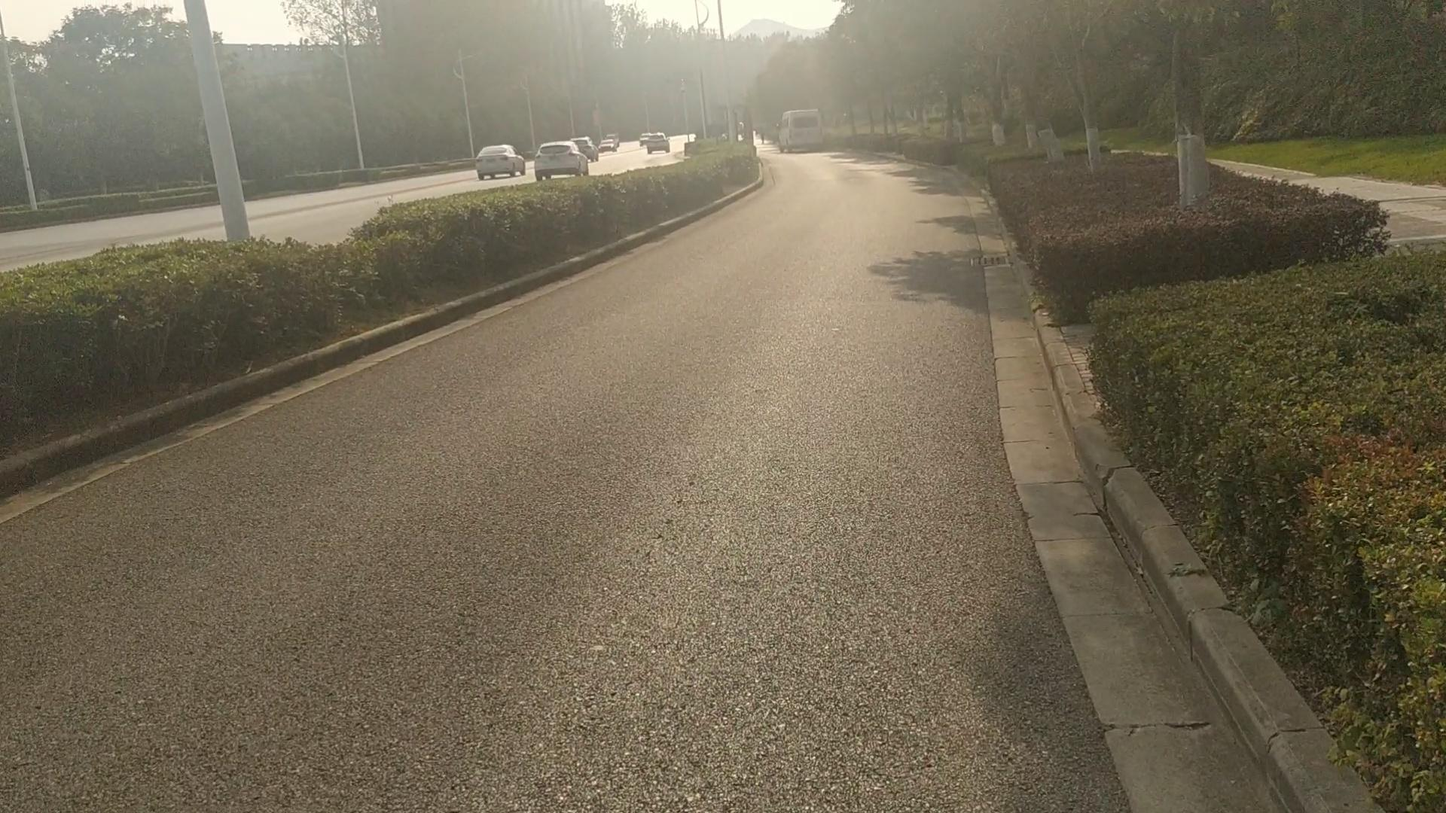car: (534, 140, 593, 181), (778, 110, 823, 153), (474, 145, 525, 181), (639, 132, 670, 155), (571, 137, 597, 157), (671, 132, 693, 155), (597, 136, 620, 154)
